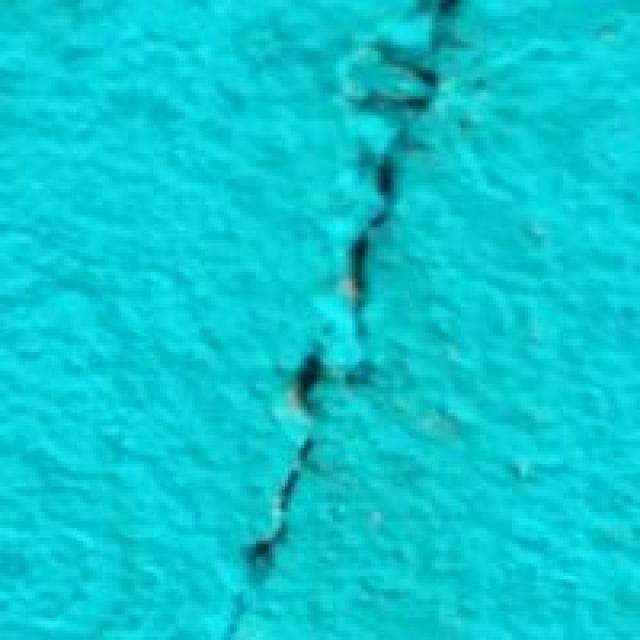crack: (176, 9, 486, 604)
